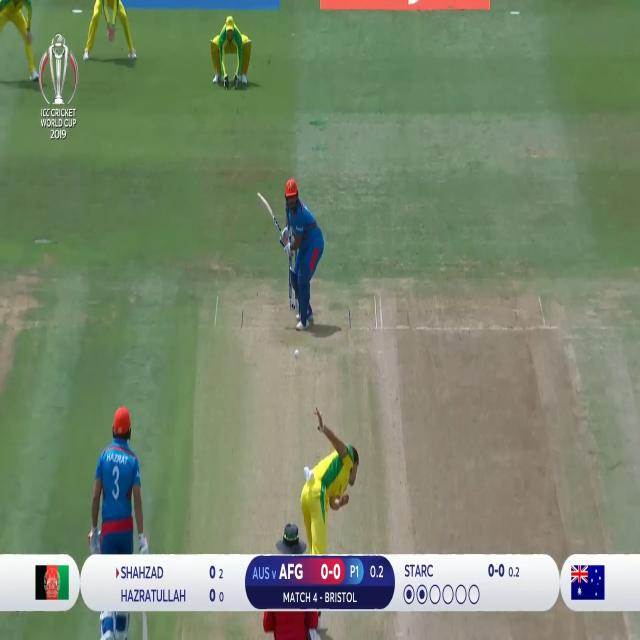ball: (292, 345, 301, 361)
